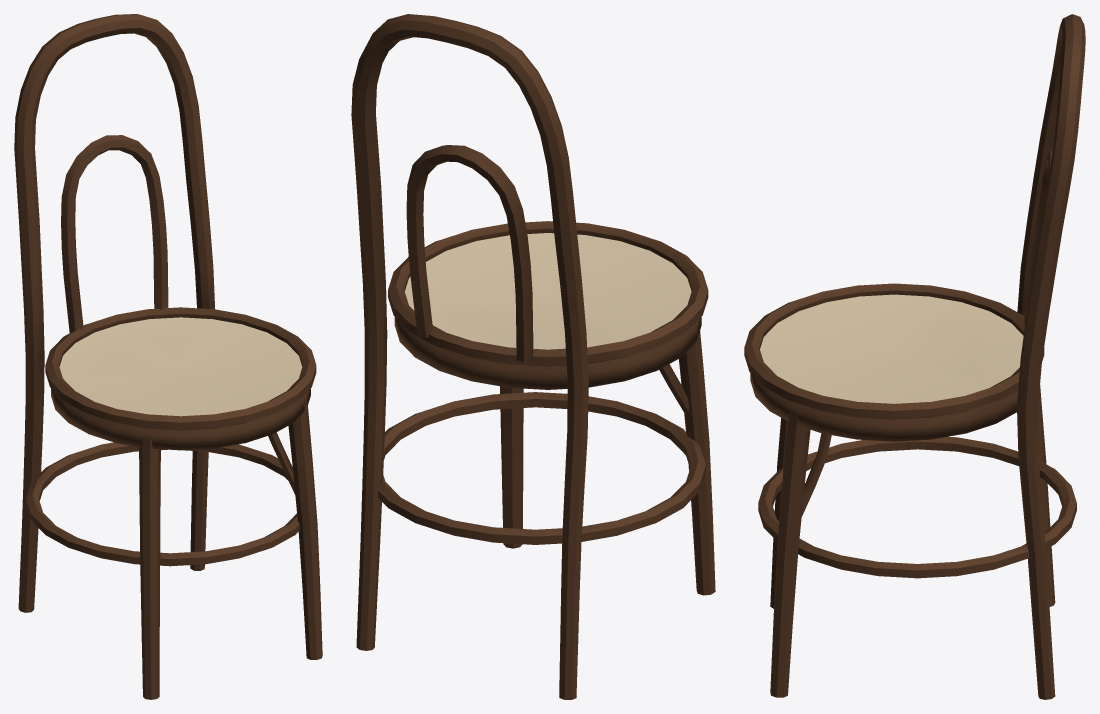
Rendered from cafeChair.glb.
The picture shows the model from 3 angles, left to right: view 1: azimuth 30°, elevation 25°; view 2: azimuth 150°, elevation 25°; view 3: azimuth 270°, elevation 25°; orthographic projection. The views are drawn at different scales.
Visible parts, largest first — view 1: chair; view 2: chair; view 3: chair.
Boxes of the visible parts, left/top/right/bottom form: chair: left=14, top=14, right=322, bottom=699; chair: left=351, top=14, right=715, bottom=699; chair: left=744, top=14, right=1085, bottom=699.
Size of the model in its own units: 0.4431 by 0.9518 by 0.4744.
